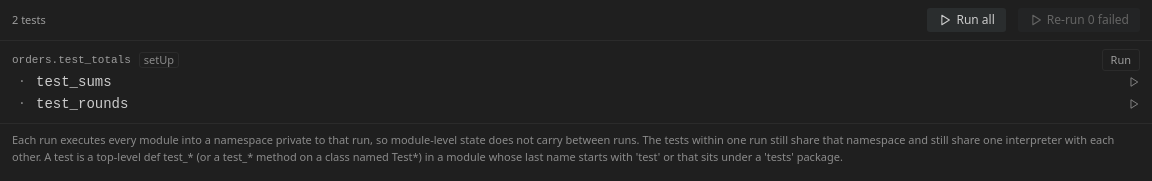
Scenario: TestsPanel › shows a tally of the four outcomes
This screenshot has width=1152, height=181.
Click the button "Run all" at (967, 20), box [928,8,1006,32]
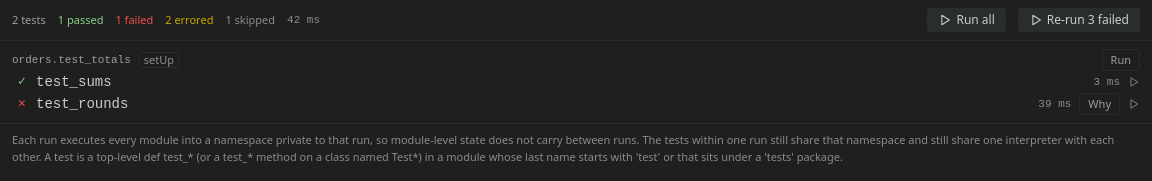
Check: the text "1 passed" is shown, box [58,13,103,27]
Check: the text "1 failed" is shown, box [116,13,153,27]
Check: the text "2 errored" is shown, box [165,13,213,27]
